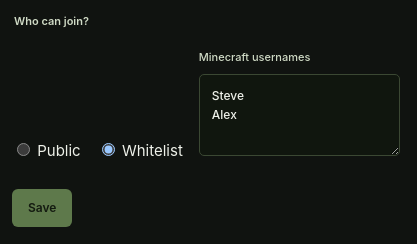
Test: player access editor › doesn't let a slow refresh overwrite what's been typed since
The width and height of the screenshot is (417, 244).
Replace the text in the text box labelled "Minecraft usernames" with "Typed" at [299, 115], box [199, 74, 400, 156]
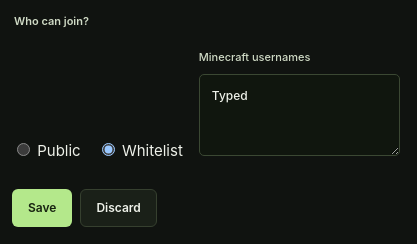
Check: the button "Save" is enabled, box [12, 189, 72, 227]
